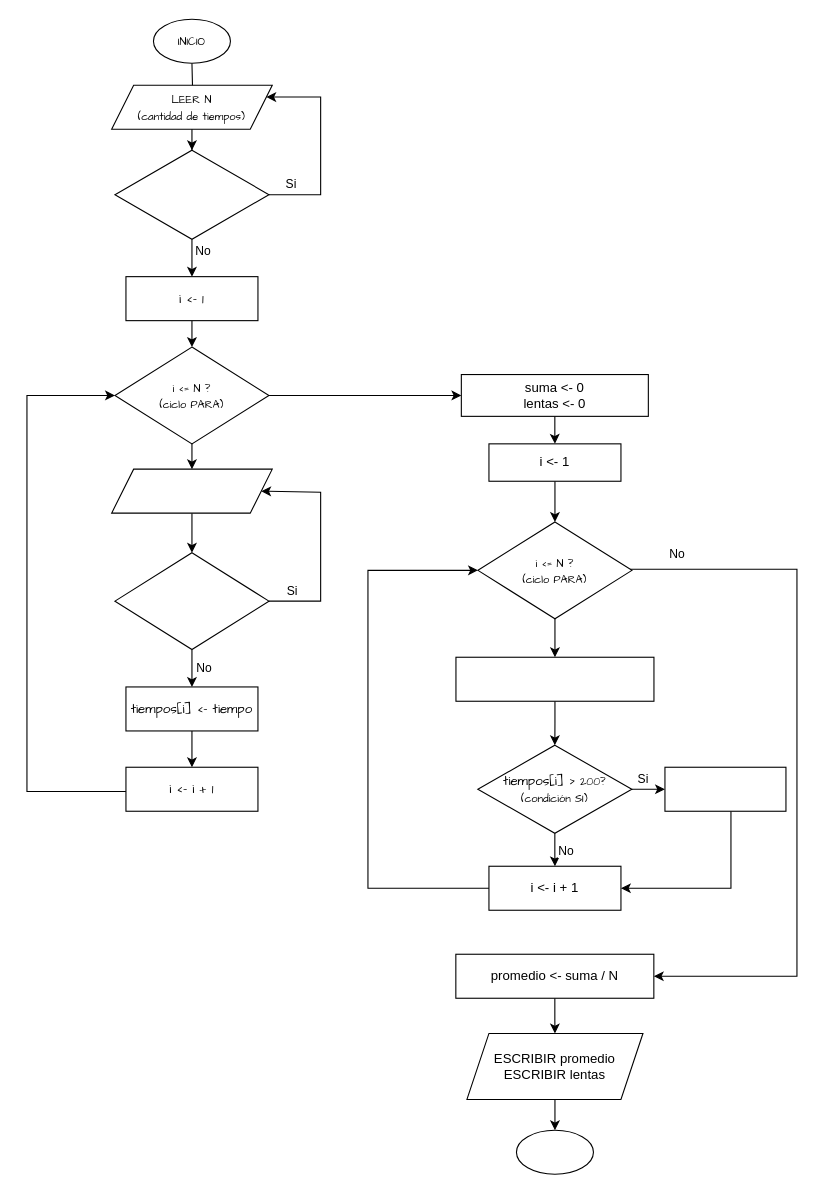
Some shapes in this 825 by 1194 pixel diagram are drawn without their labels. Here are the shapes that lost their labels. From the top down, the centre of each, then its label:
At (x=191, y=194): "N < 1 OR N > 30 ? ( validación MIENTRAS)".
At (x=191, y=490): "LEER tiempo (valor en ms)".
At (x=191, y=601): "tiempo <= 0 ? ( validación MIENTRAS)".
At (x=554, y=678): "suma <- suma + tiempos[i]".
At (x=725, y=788): "lentas <- lentas + 1".
At (x=554, y=1151): "FIN".
